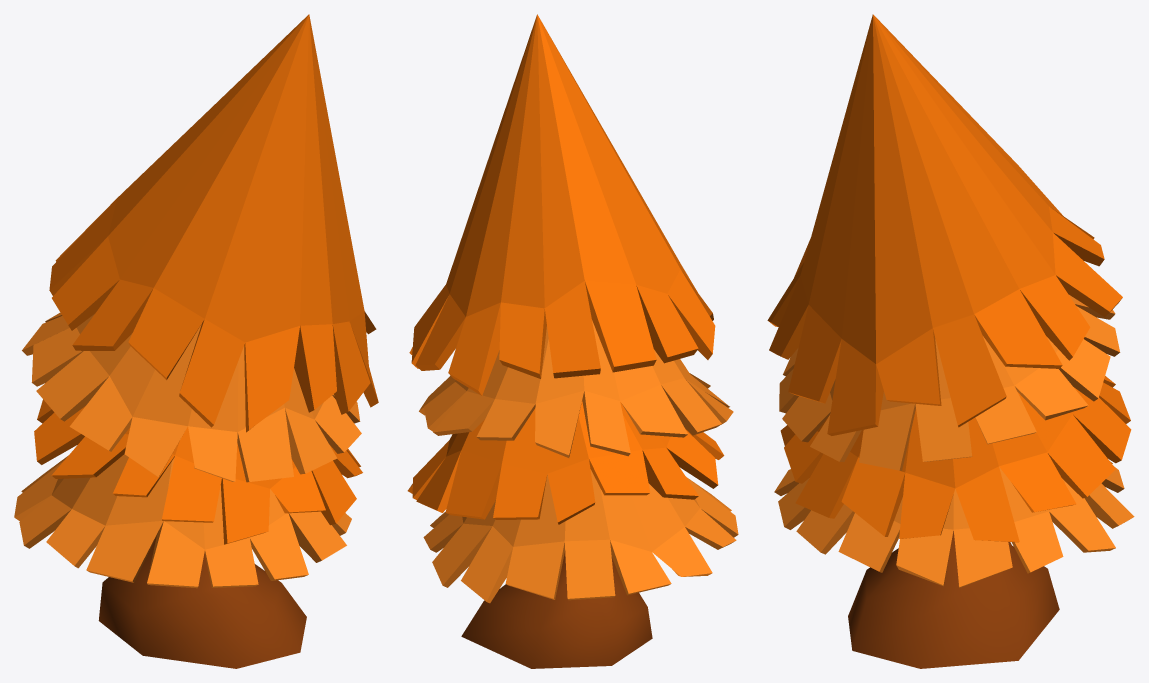
Rendered from Tree_02_Fall.fbx.
The picture shows the model from 3 angles, left to right: view 1: azimuth 30°, elevation 25°; view 2: azimuth 150°, elevation 25°; view 3: azimuth 270°, elevation 25°; orthographic projection. The views are drawn at different scales.
Visible parts, largest first — view 1: Tree_02_p2_Fall, Tree_02_p1_Fall; view 2: Tree_02_p2_Fall, Tree_02_p1_Fall; view 3: Tree_02_p2_Fall, Tree_02_p1_Fall.
Part boxes in pixels (x1,y1,x2,y2): Tree_02_p2_Fall: (14, 14, 378, 588); Tree_02_p1_Fall: (98, 536, 306, 668); Tree_02_p2_Fall: (407, 14, 738, 603); Tree_02_p1_Fall: (461, 551, 652, 668); Tree_02_p2_Fall: (767, 14, 1134, 587); Tree_02_p1_Fall: (848, 531, 1059, 668).
Bounding box in the file's own units: 196 × 368 × 189.
